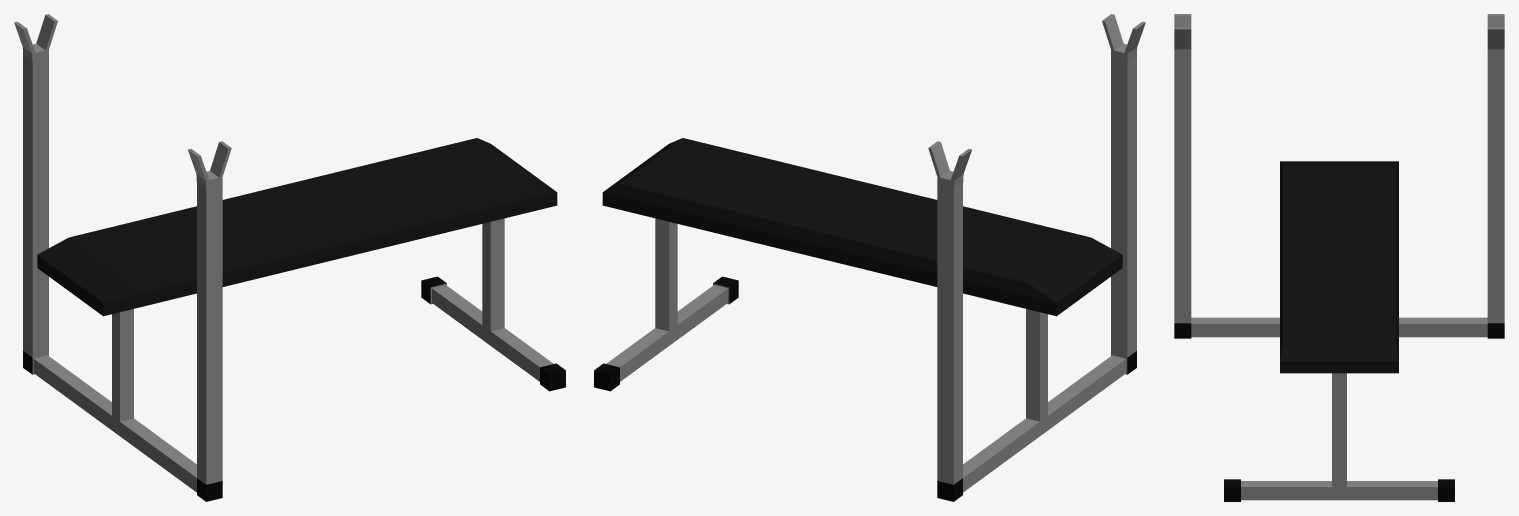
File: BenchPress.001.fbx
3 views of the same model, side by side, from view 1: azimuth 30°, elevation 25°; view 2: azimuth 150°, elevation 25°; view 3: azimuth 270°, elevation 25° (orthographic). The views are drawn at different scales.
Visible parts, largest first — view 1: BenchPress.001; view 2: BenchPress.001; view 3: BenchPress.001.
Boxes of the visible parts, <box> form: BenchPress.001: <box>14,14,565,501</box>; BenchPress.001: <box>594,14,1145,501</box>; BenchPress.001: <box>1174,14,1504,501</box>.
Size of the model in its own units: 109 by 79.98 by 76.37.
